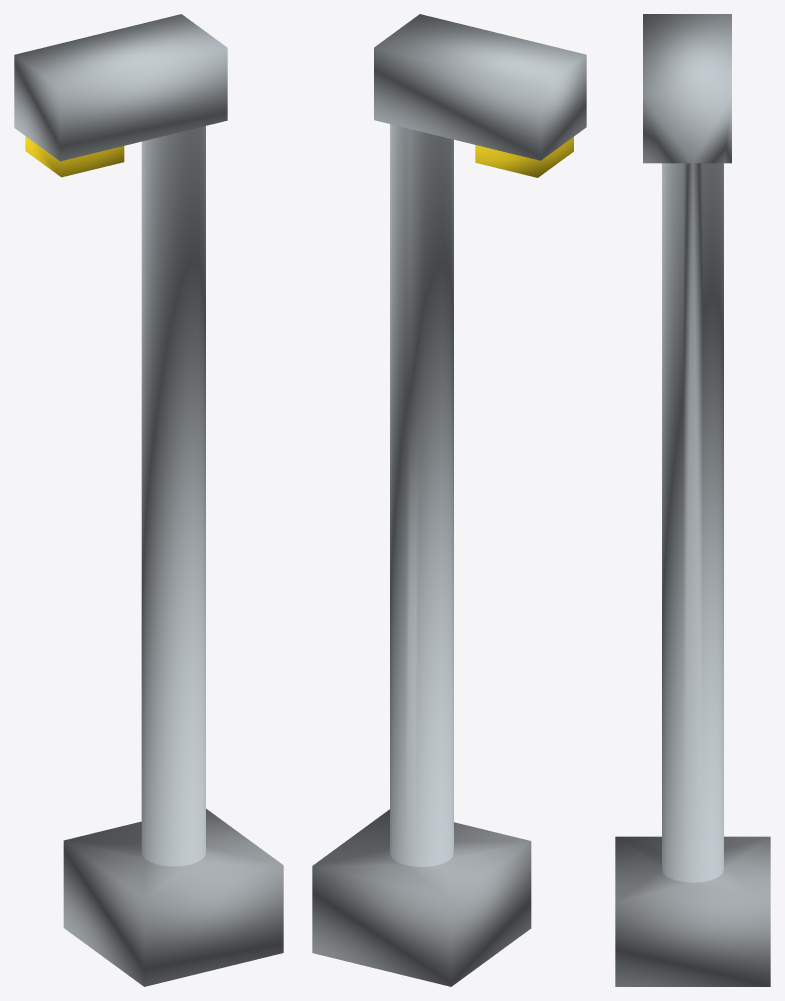
The model's file is street_lamp.obj.
The picture shows the model from 3 angles, left to right: view 1: azimuth 30°, elevation 25°; view 2: azimuth 150°, elevation 25°; view 3: azimuth 270°, elevation 25°; orthographic projection. The views are drawn at different scales.
Parts seen in each view (by area): view 1: obj_0.002; view 2: obj_0.002; view 3: obj_0.002.
Boxes of the visible parts, box(x1,y1,x2,y2) form: obj_0.002: box(14, 14, 283, 986); obj_0.002: box(312, 14, 586, 986); obj_0.002: box(615, 14, 770, 986).
Size of the model in its own units: 3 by 12.4 by 2.
